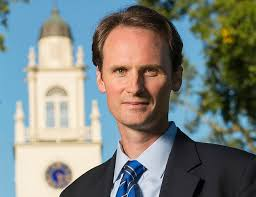white_male: (104, 39, 175, 124)
